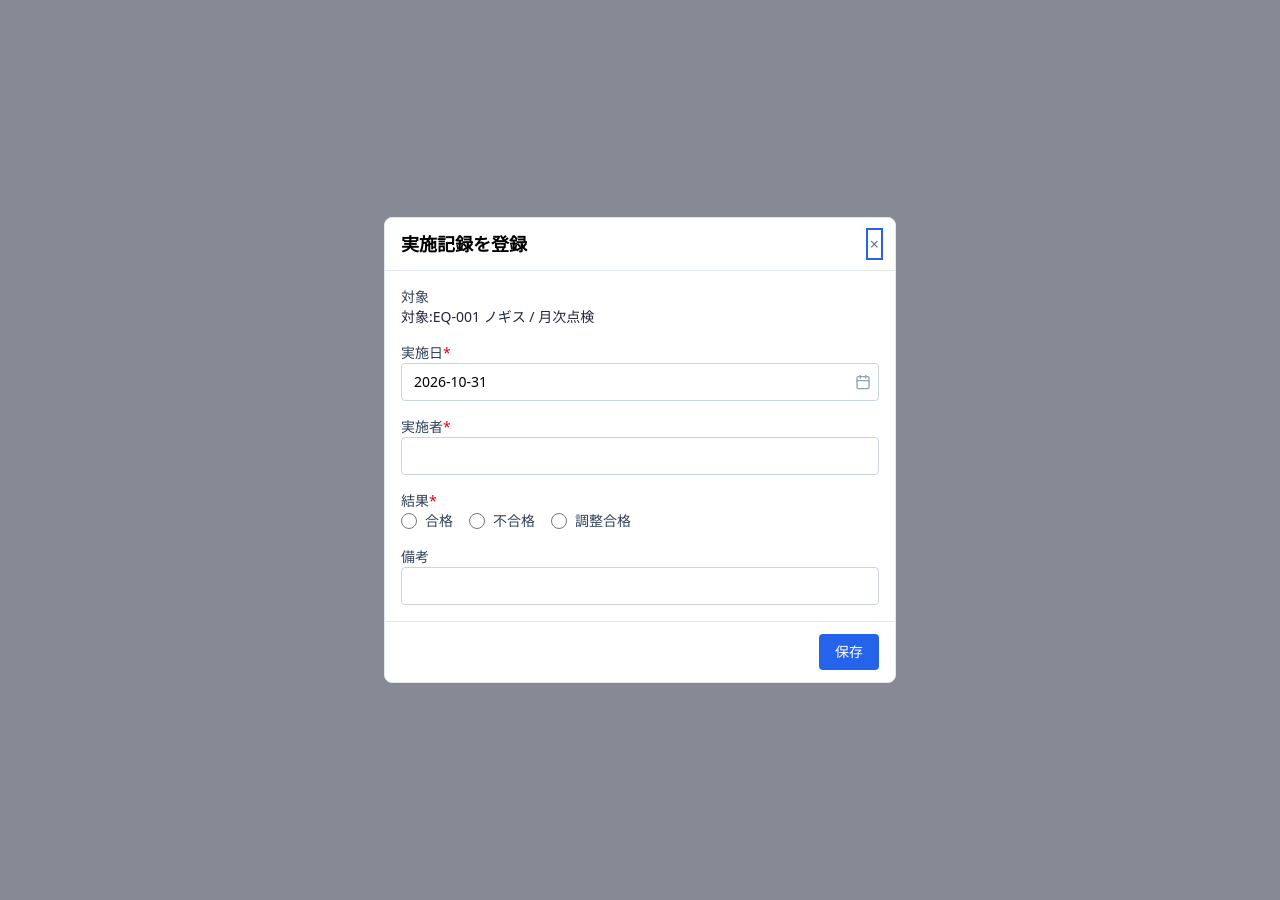
ServiceRecordModal › 実施者が空のまま登録するとエラーが表示されストアが変化しない
The width and height of the screenshot is (1280, 900).
Step 1. Click the radio button labelled "合格" → [409, 521], box [401,513,417,529]
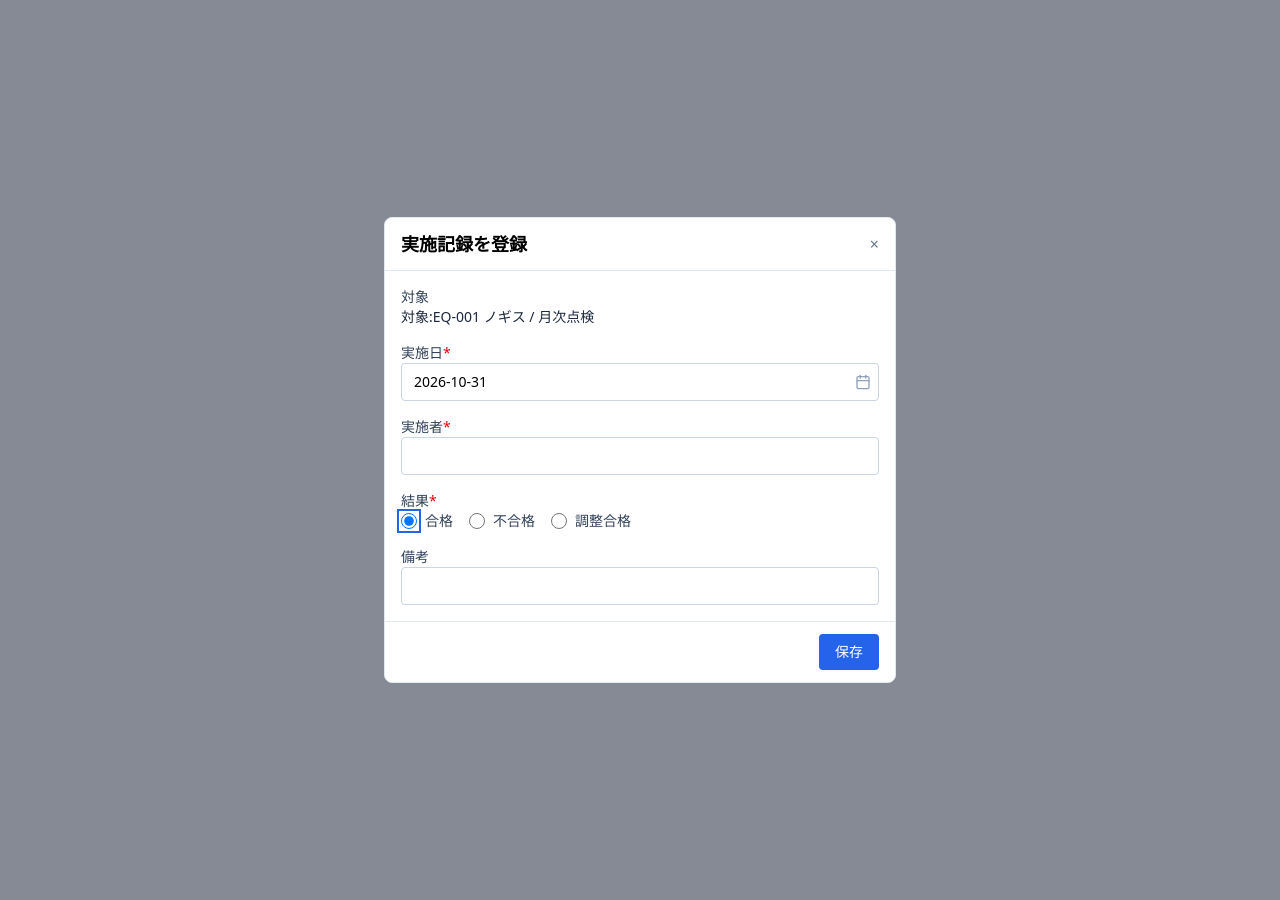
Step 2. Click the button "保存" → [849, 652], box [819,634,879,670]
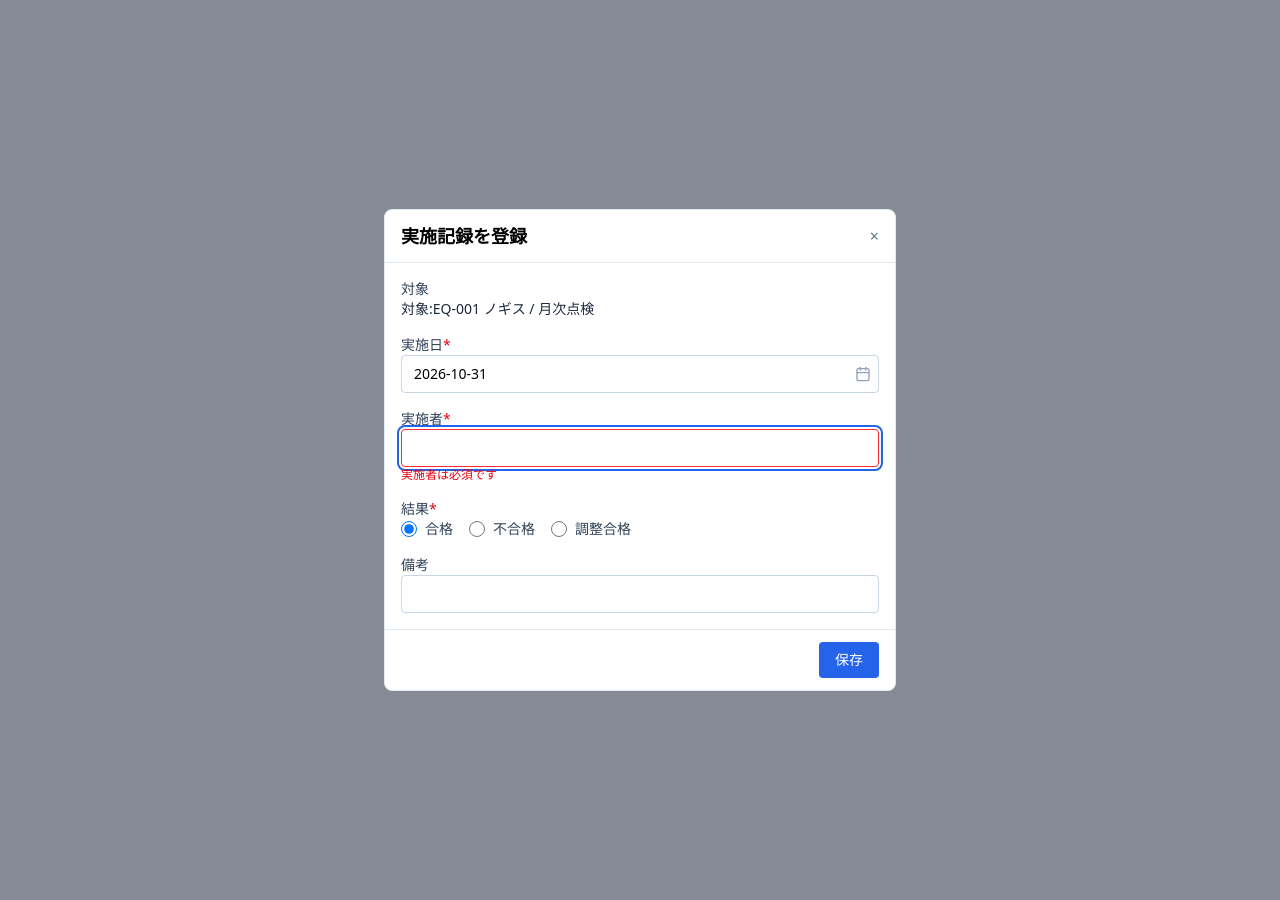
Expected: the text "実施者は必須です" is shown, [401,466,497,483]
